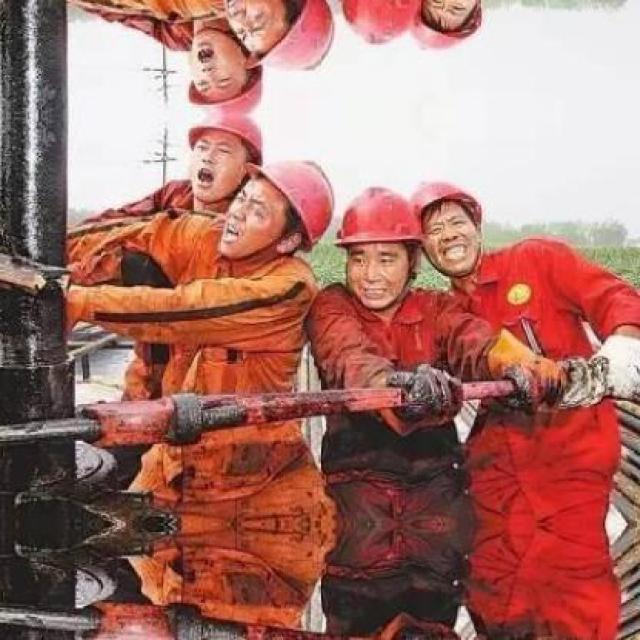helmet: (243, 145, 339, 251), (320, 178, 428, 258), (182, 113, 270, 174), (405, 172, 489, 234)
